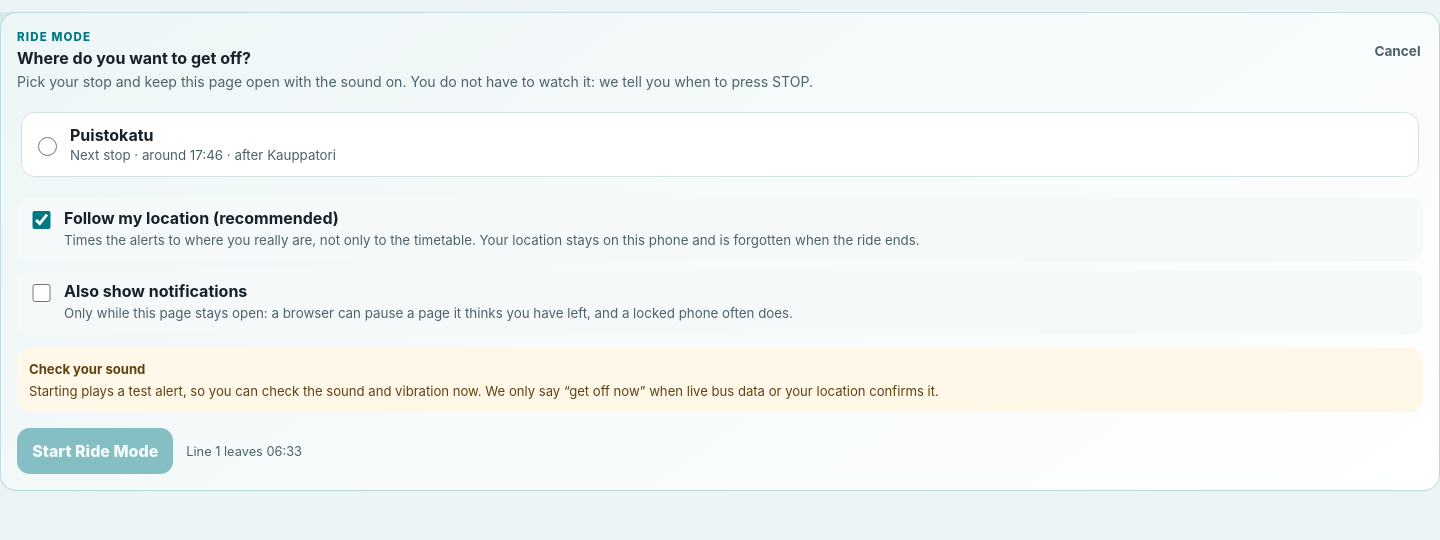
Test: says why the ride cannot start instead of ignoring the button
Check: the button "Start Ride Mode" is shown, box [17,428,174,474]
Click the radio button showing "2".
click(47, 146)  # box [38,137,57,156]
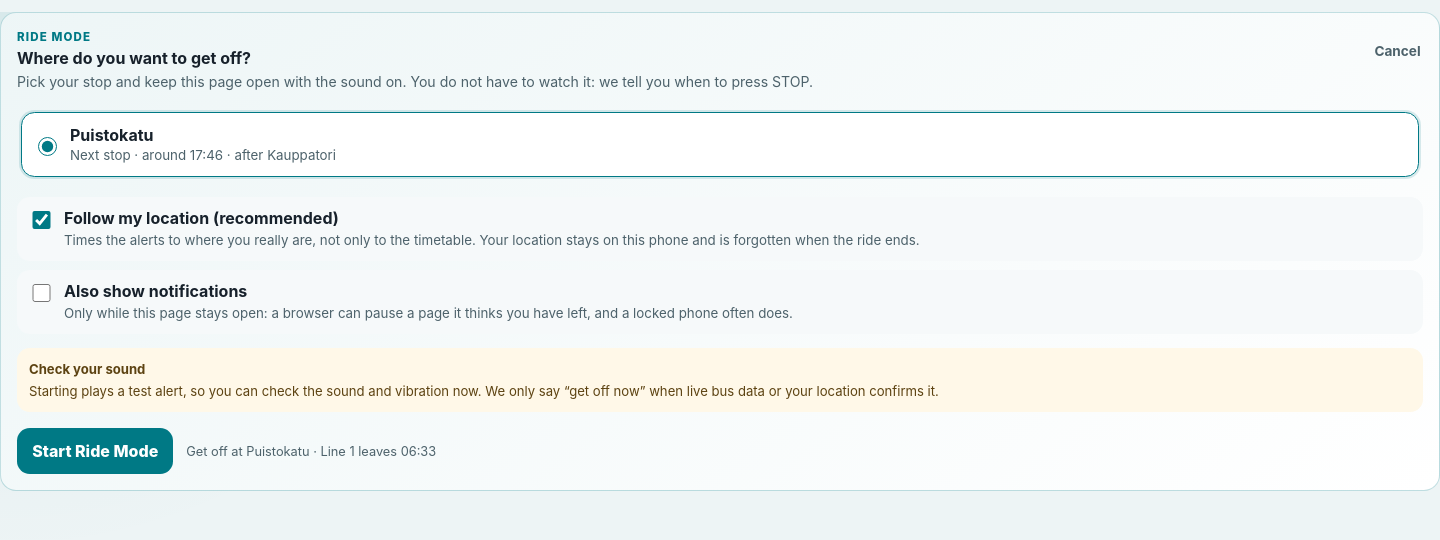
Click the button "Start Ride Mode".
click(95, 451)  # box [17,428,174,474]
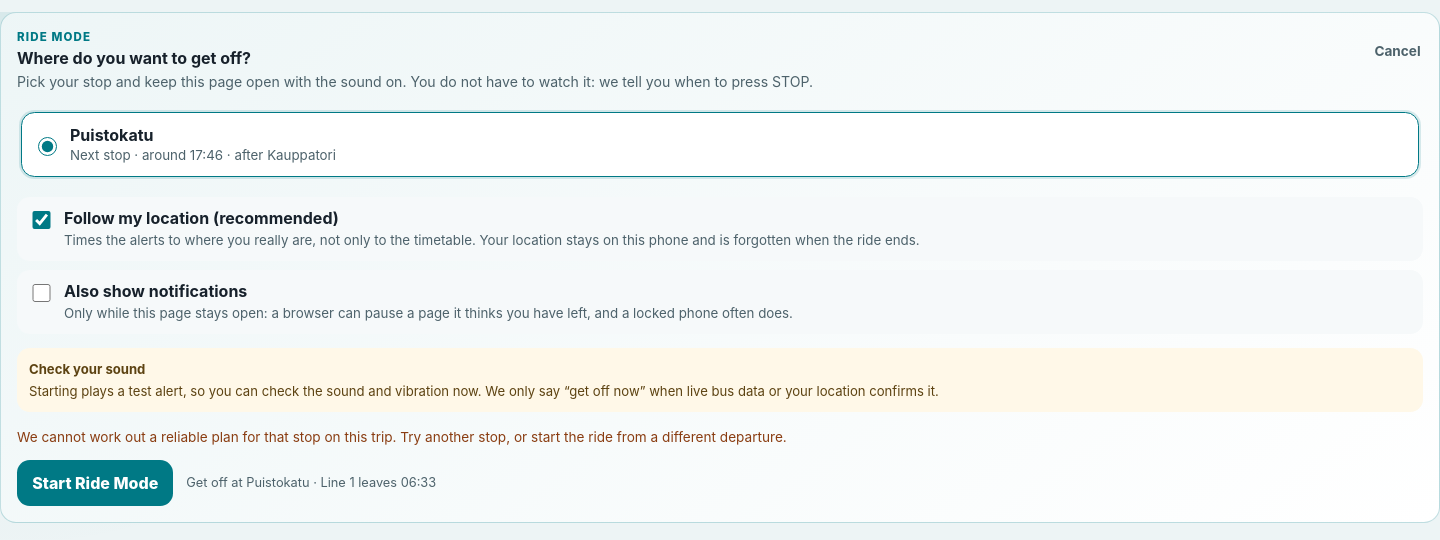
Check: the message shows "cannot work out a reliable plan", box [17,429,787,445]
